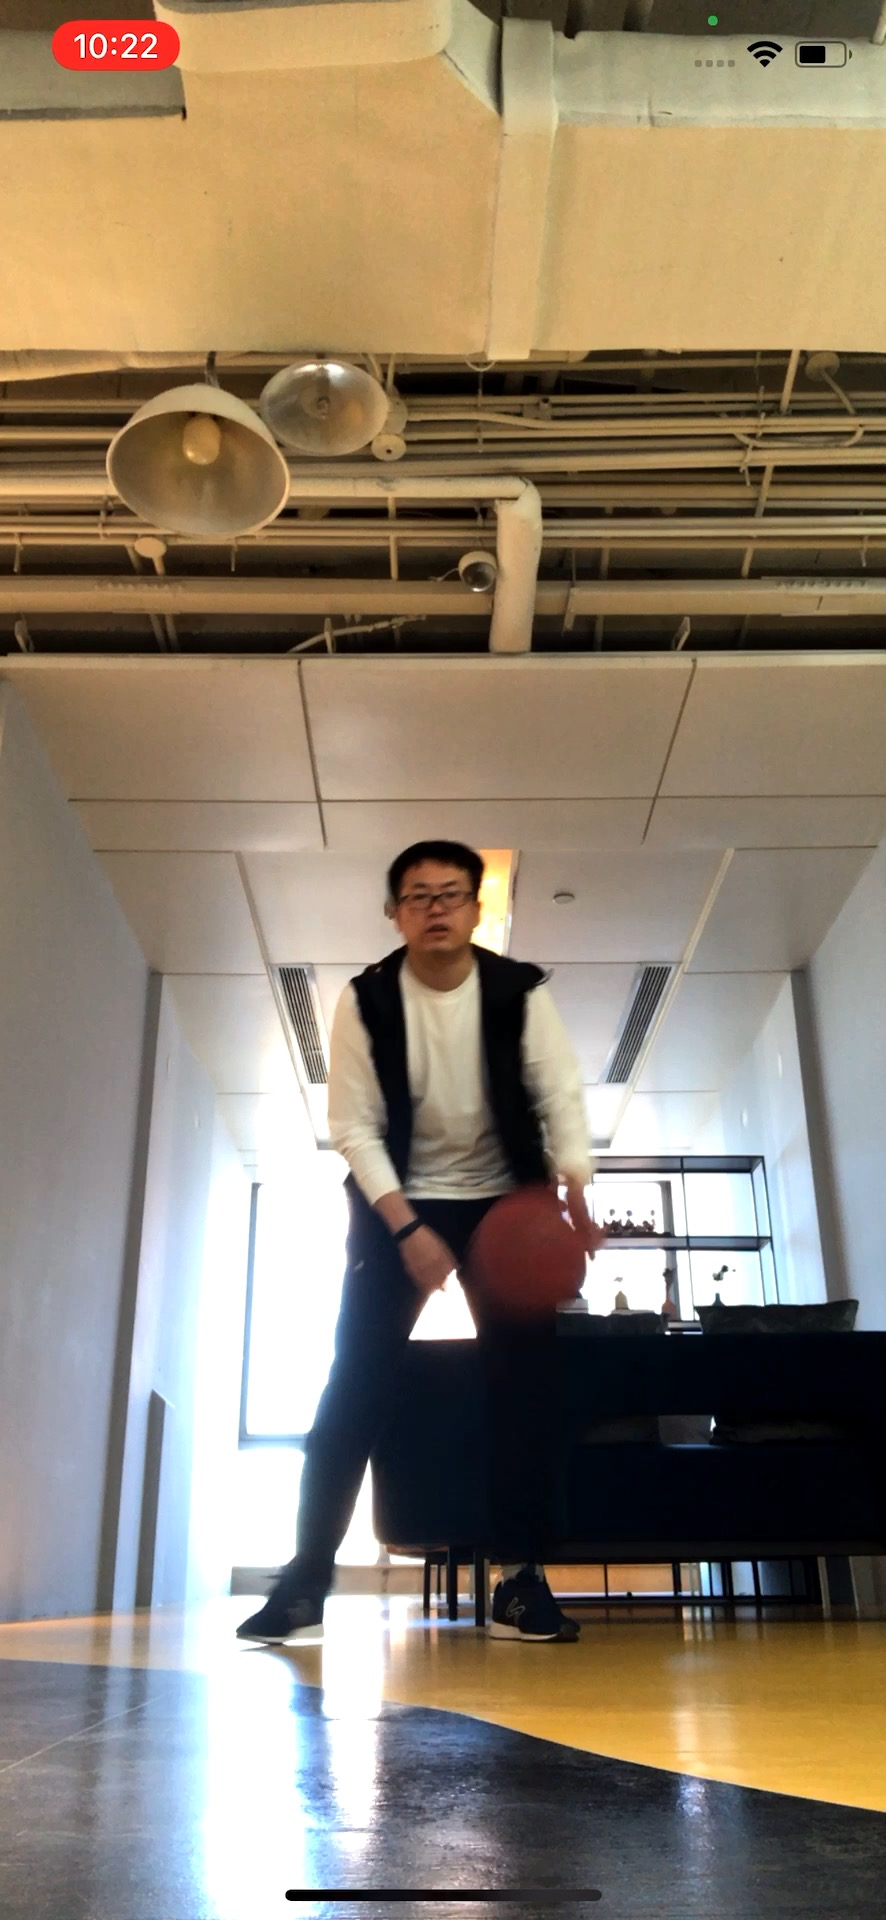ball: (470, 1194, 586, 1314)
